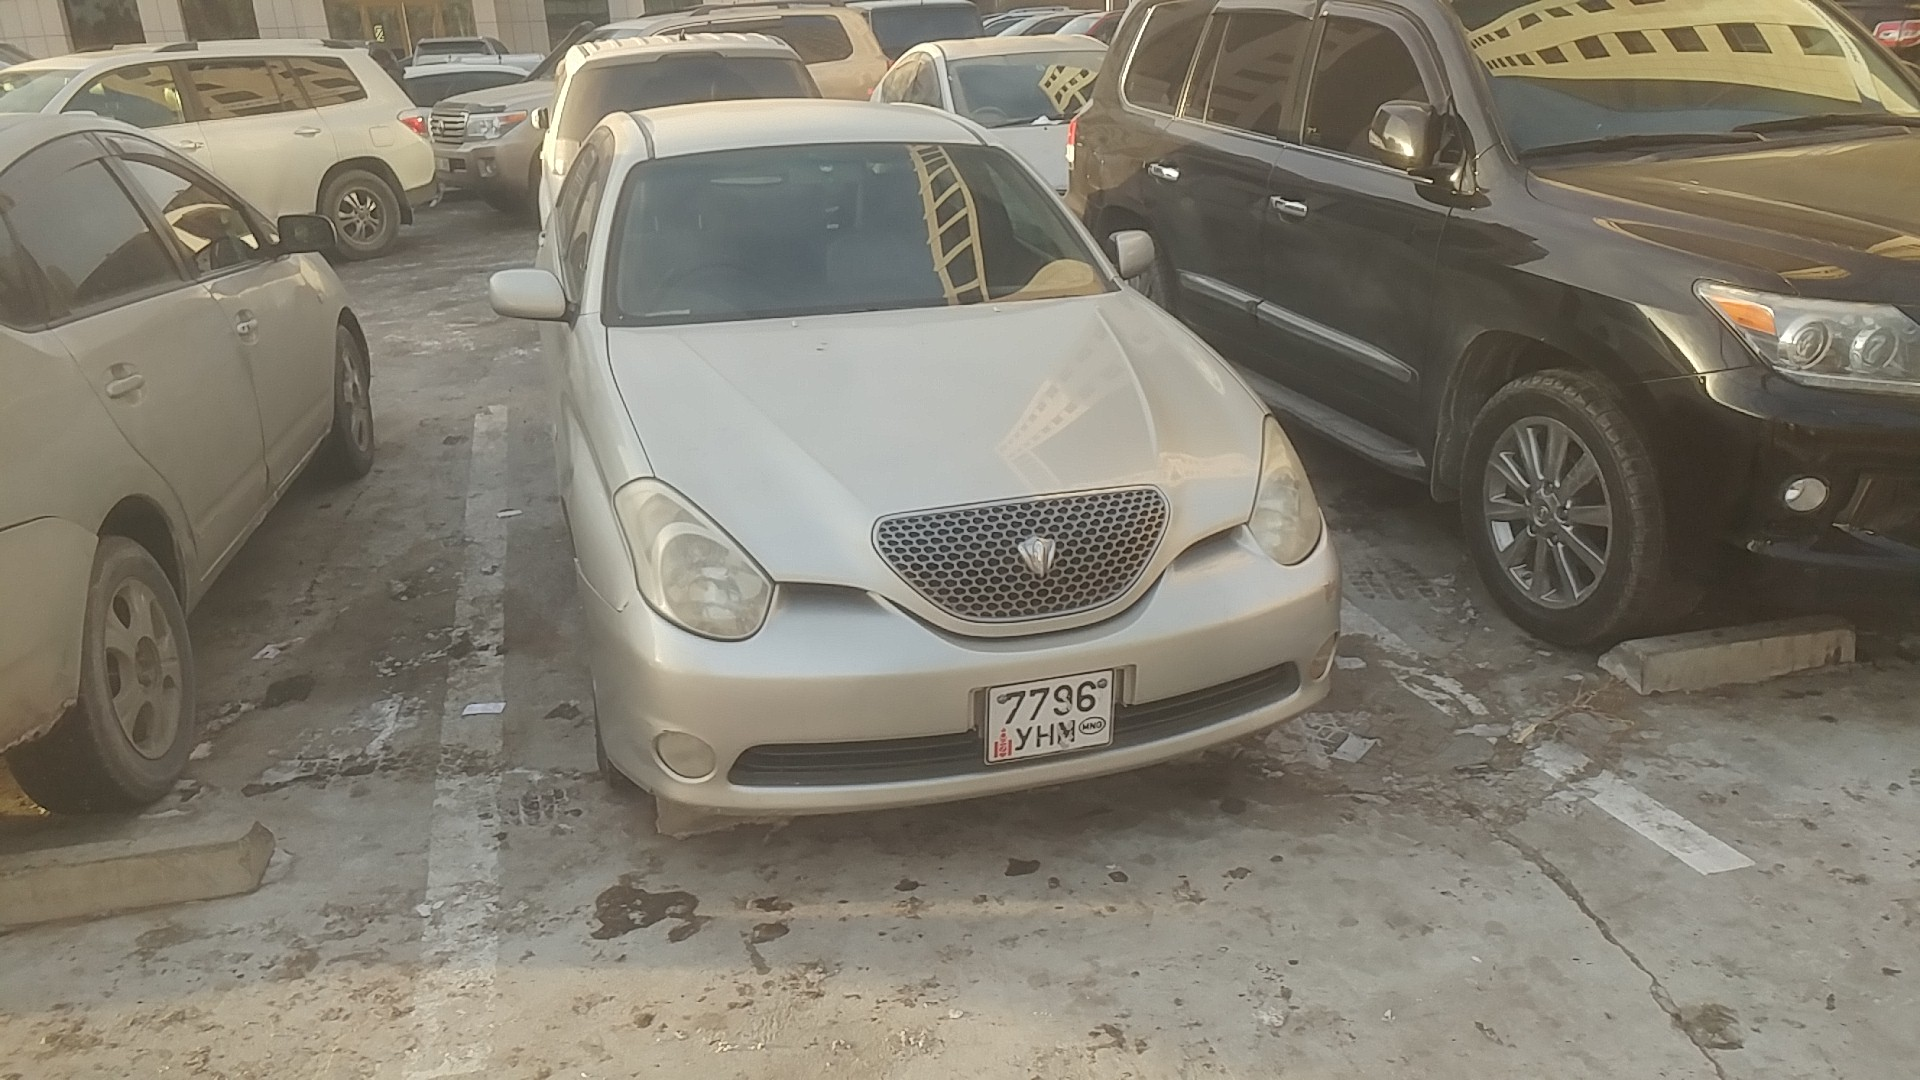6: (1075, 680, 1099, 713)
7: (1027, 686, 1050, 722), (1004, 690, 1026, 724)
9: (1052, 682, 1074, 717)
m: (1056, 718, 1076, 746)
n: (1035, 723, 1056, 749)
plate: (980, 668, 1120, 768)
u: (1014, 725, 1033, 751)
